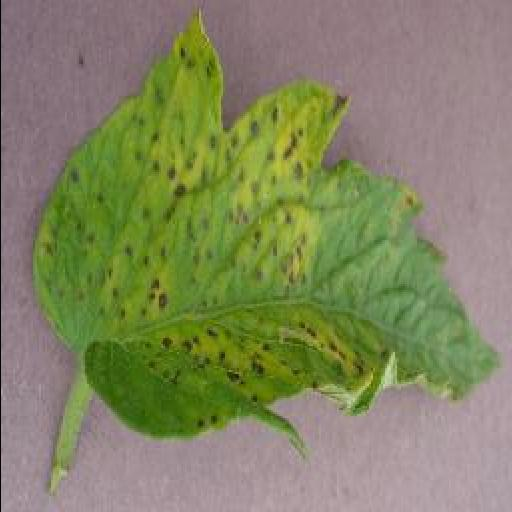disease_tomato: (31, 15, 501, 436)
